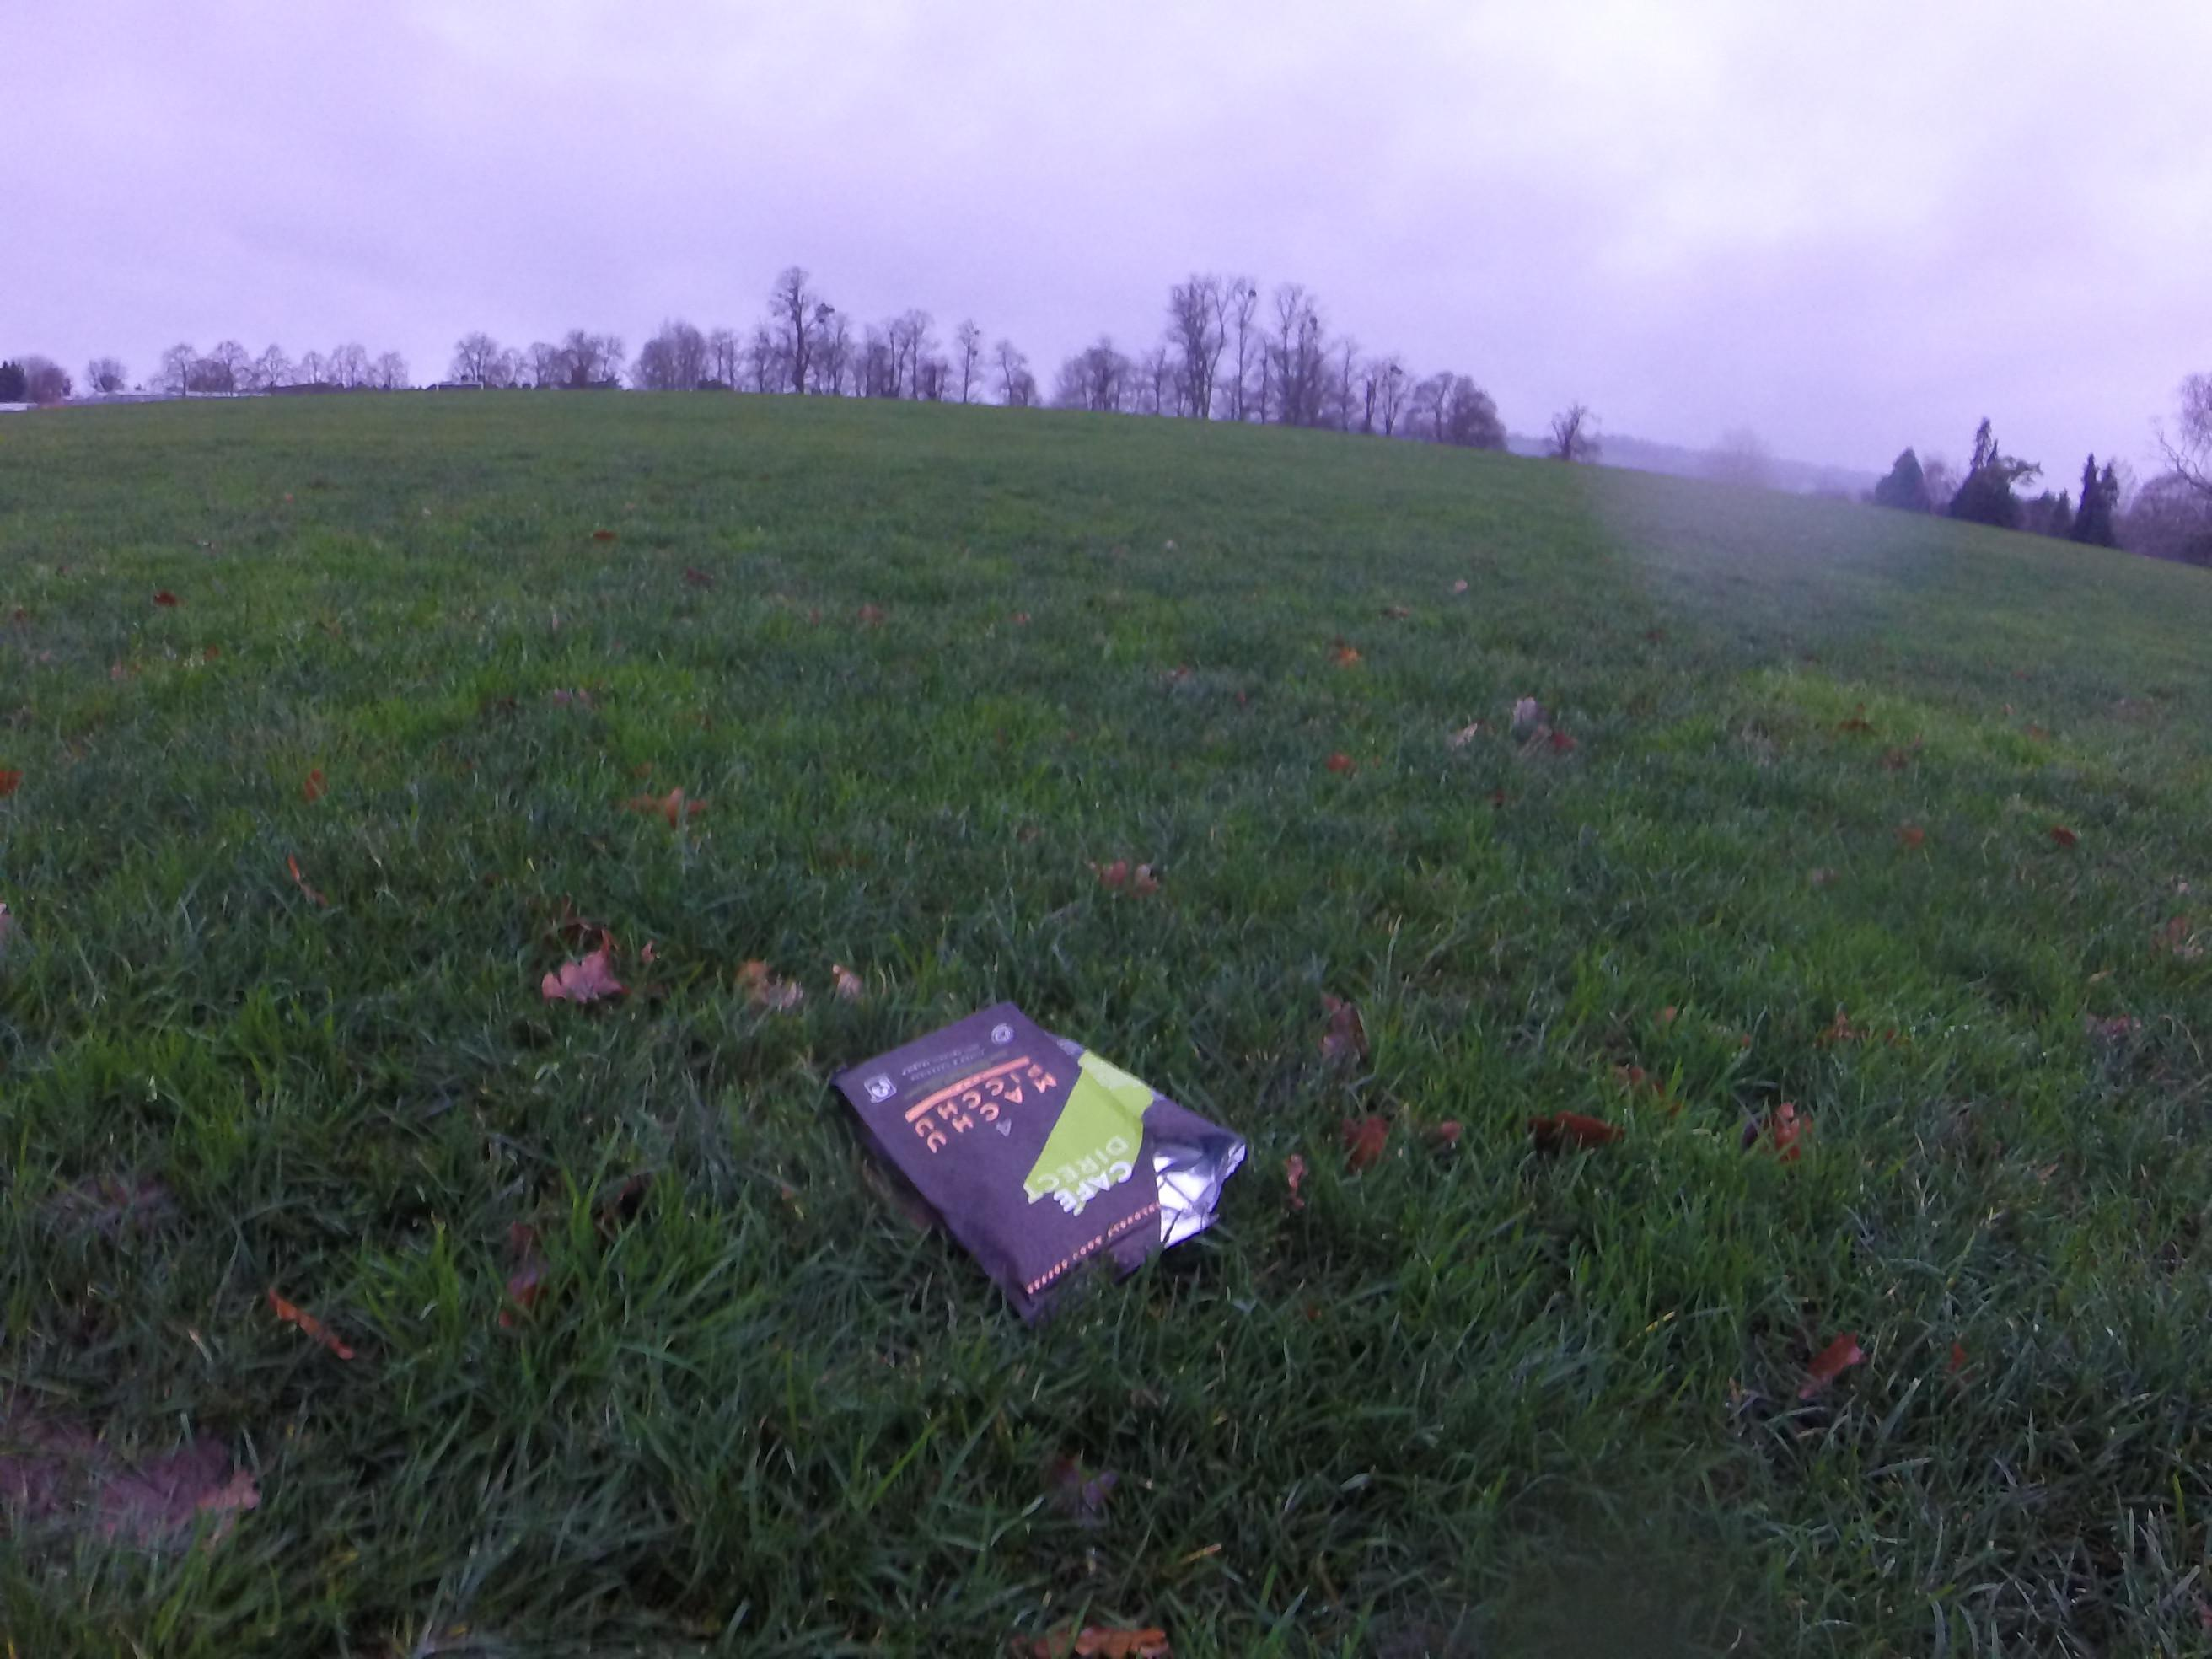Trash: (833, 985, 1244, 1310)
